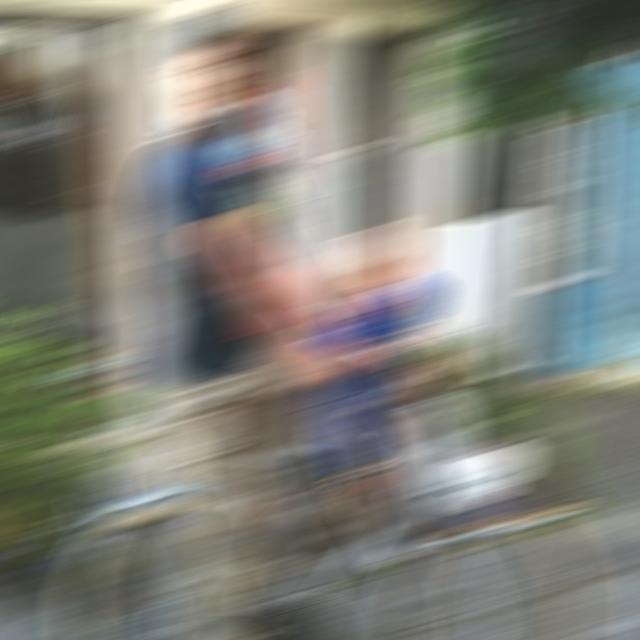Without Helmet: (162, 3, 262, 137)
